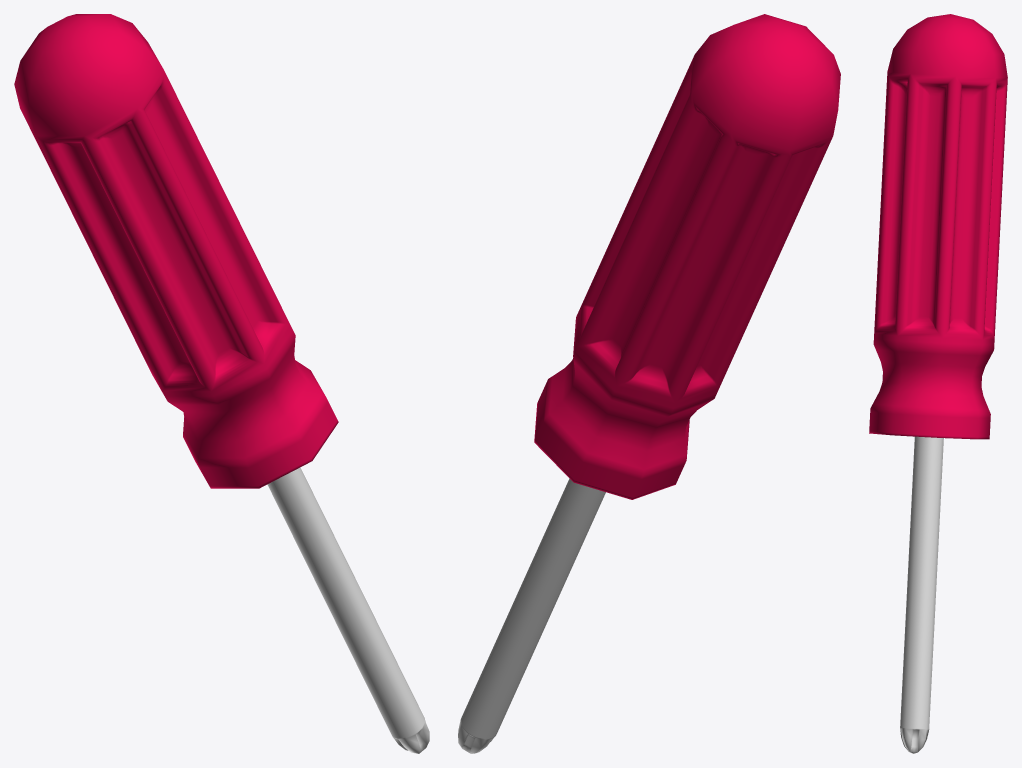
3 renders of one model, left to right at view 1: azimuth 30°, elevation 25°; view 2: azimuth 150°, elevation 25°; view 3: azimuth 270°, elevation 25°, orthographic. The views are drawn at different scales.
Visible parts, largest first — view 1: Screw_Driver.001; view 2: Screw_Driver.001; view 3: Screw_Driver.001.
Boxes of the visible parts, x1,y1,x2,y2 form: Screw_Driver.001: [14, 14, 429, 753]; Screw_Driver.001: [458, 14, 840, 753]; Screw_Driver.001: [869, 14, 1007, 753].
Bounding box in the file's own units: 0.6135 × 1.22 × 0.2485.
